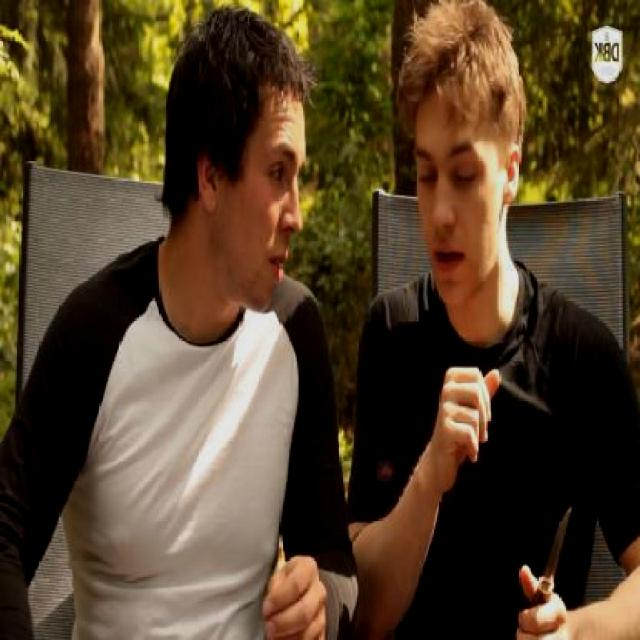knife: (509, 487, 586, 640)
